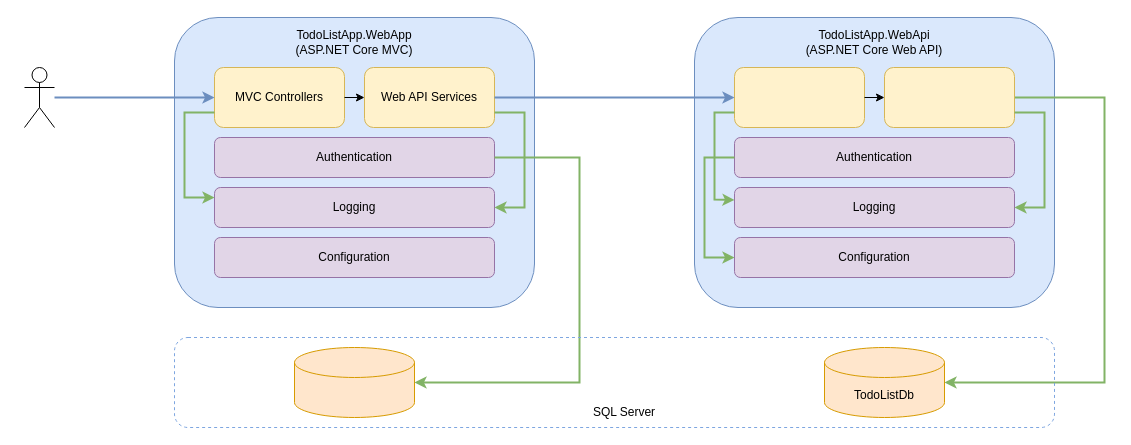
Image size: 1131x445. Some labels were removed from this diagram. Each missing label, with the centre of its shape:
"API Controllers (RESTfull API)" goes at point (799, 97).
"Browser" goes at point (39, 97).
"Database Services" goes at point (949, 97).
"UsersDb" goes at point (354, 382).
